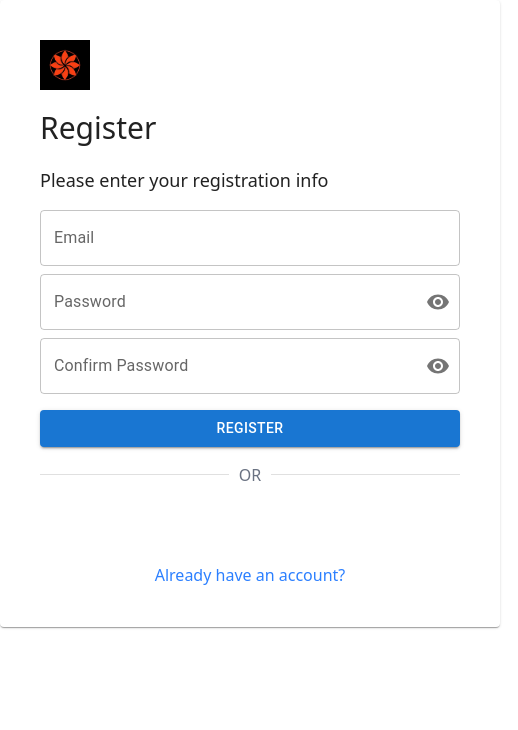
SignUpPage - User Flows › Registration Flow › shows error message when registration fails
The width and height of the screenshot is (518, 730).
Type "existing@example.com" into the field labelled "Email" at [250, 238], box x1=40 y1=210 x2=460 y2=266
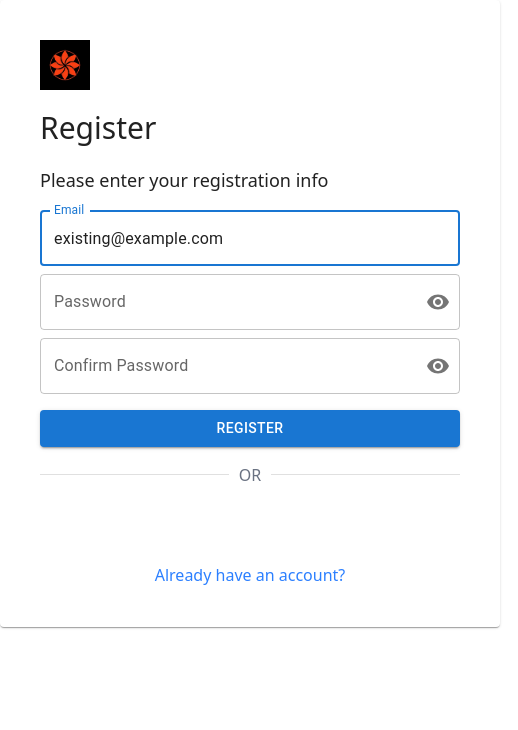
Type "password123" into the password field labelled "Password" at [225, 302], box x1=40 y1=274 x2=410 y2=330
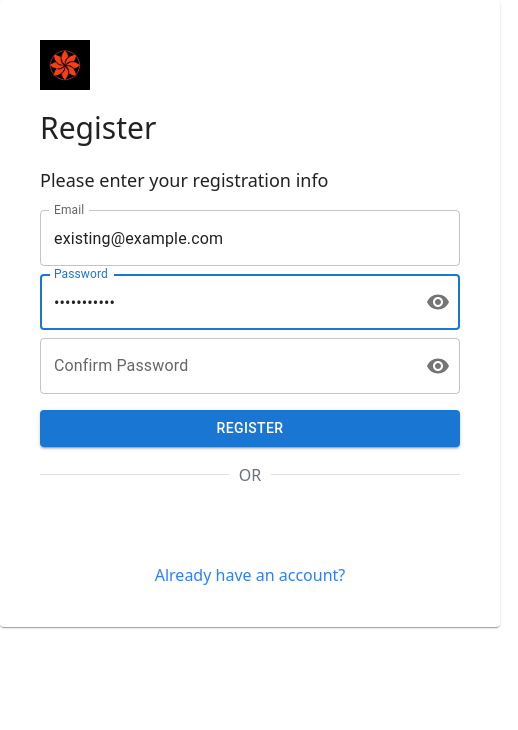
Type "password123" into the password field labelled "Confirm Password" at [225, 366], box x1=40 y1=338 x2=410 y2=394
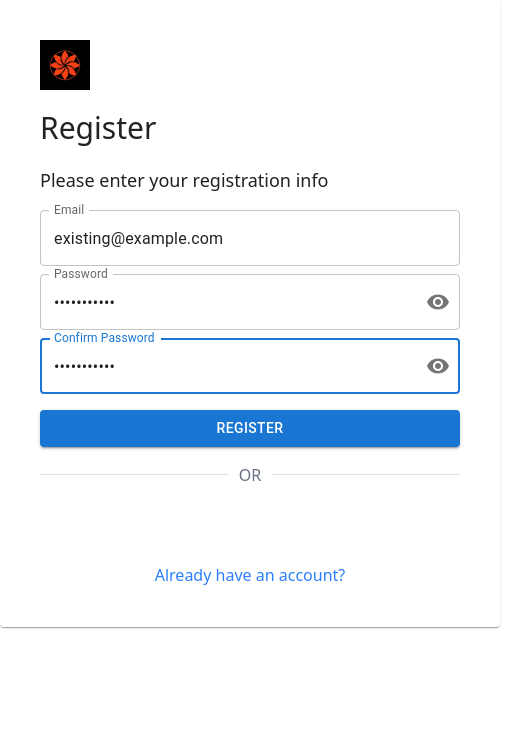
Click the button "Register" at [250, 428], box x1=40 y1=410 x2=460 y2=446
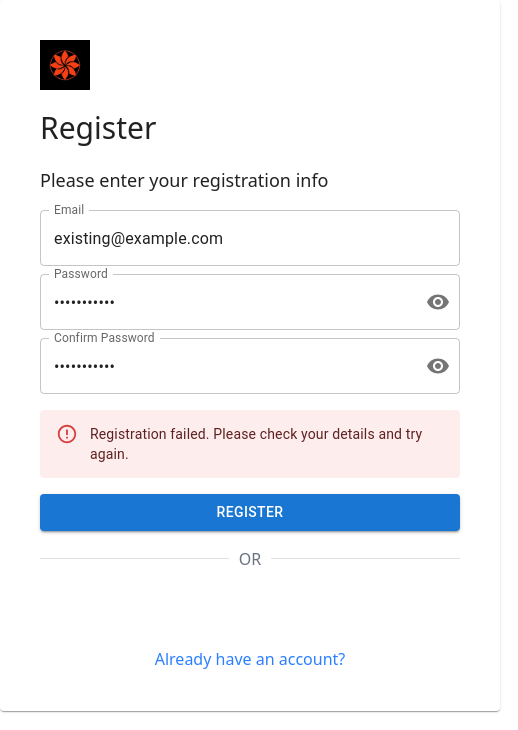
Check: the text "Registration failed" is shown, box x1=90 y1=426 x2=422 y2=462
